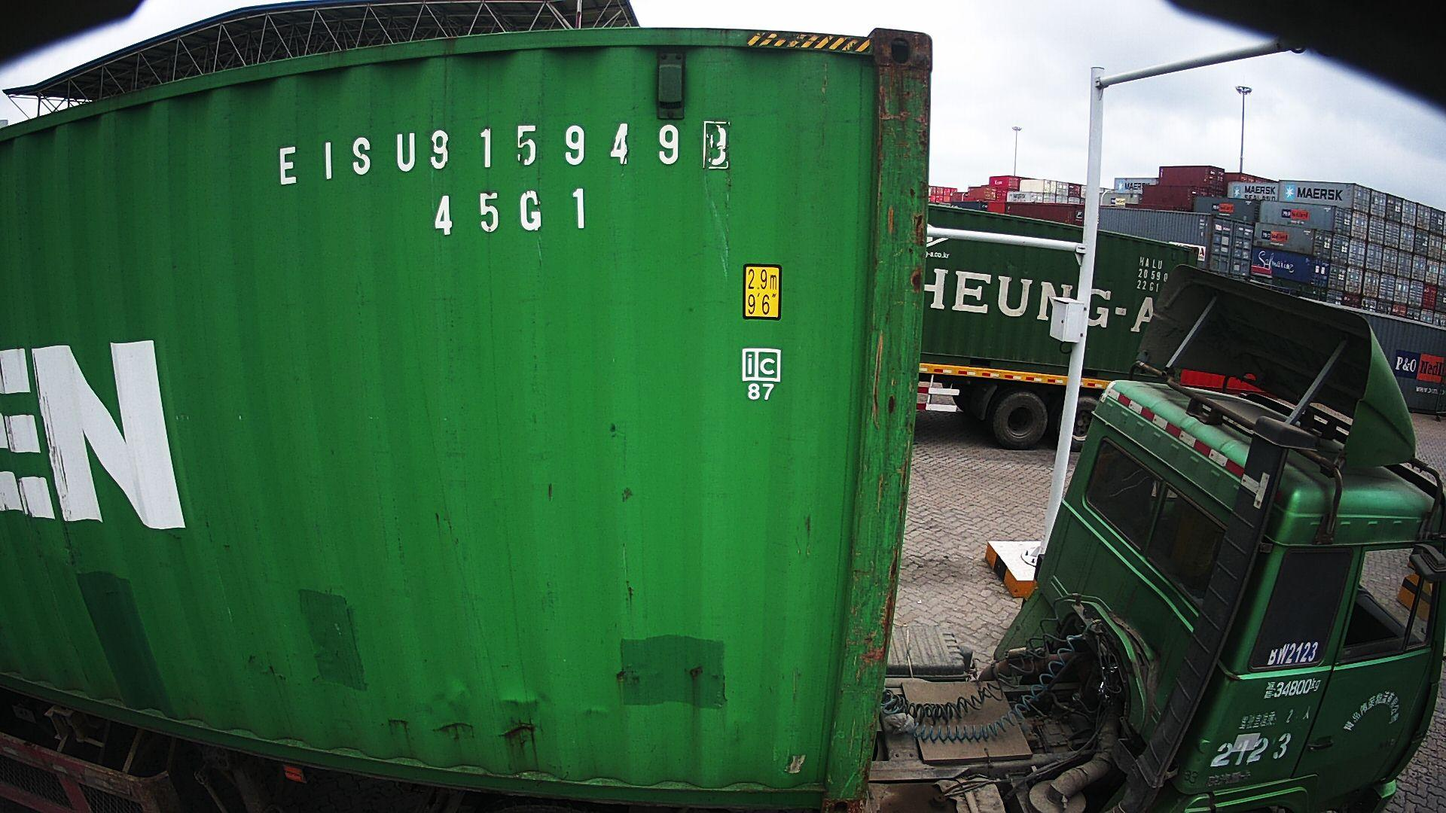container-numbers: (271, 118, 736, 188), (426, 187, 592, 239)
